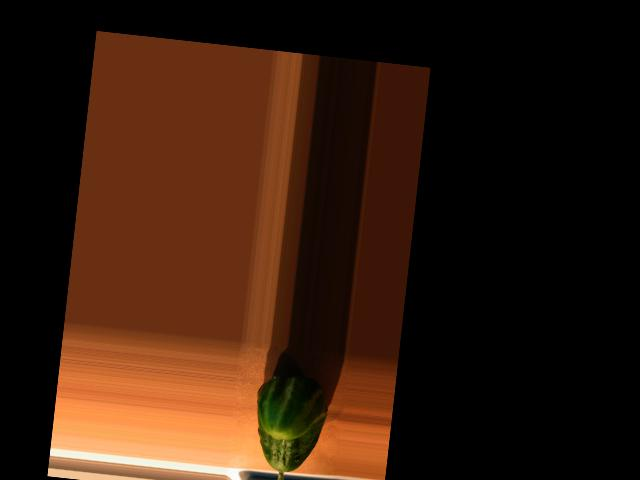cucumber: (247, 371, 330, 480)
